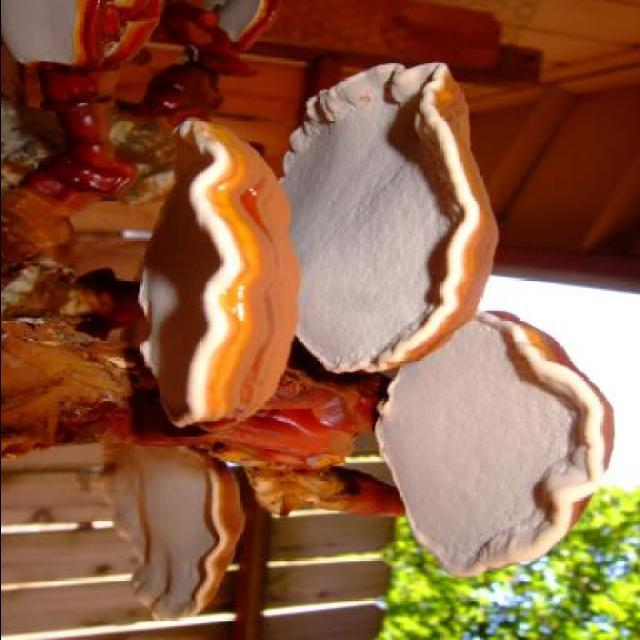Mushroom: (0, 0, 614, 620), (92, 104, 300, 450)
